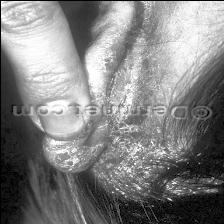Non-Cancerous Skin Condition: (55, 132, 213, 198)
